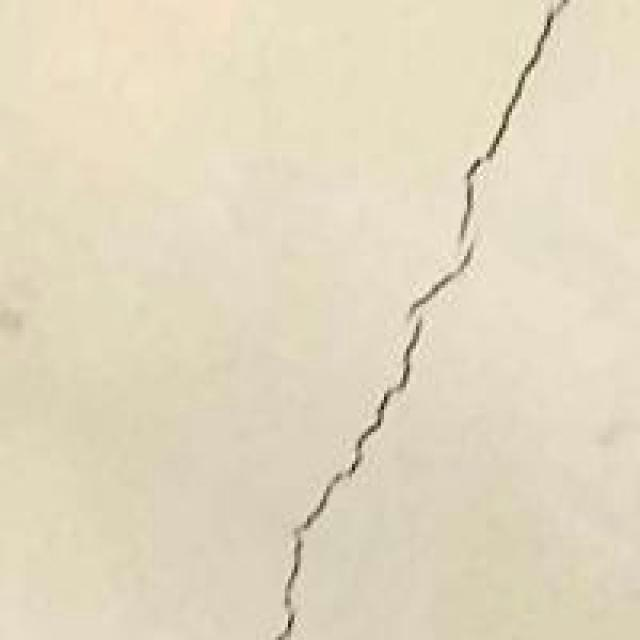crack: (264, 0, 594, 640)
